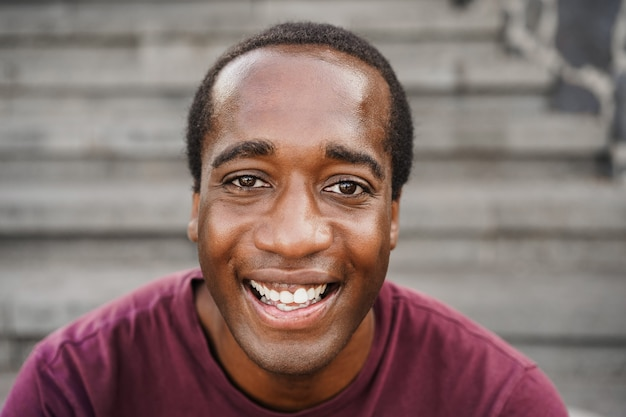face: (187, 23, 401, 377)
